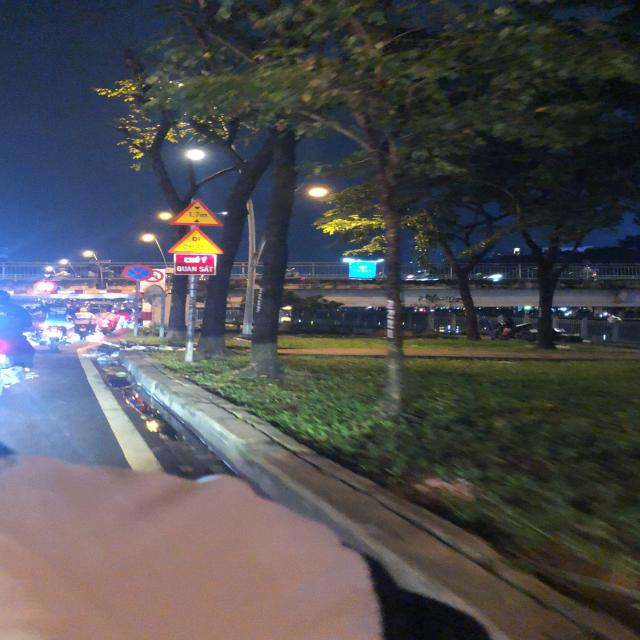Bien bao cam dung xe va do xe: (121, 262, 154, 284)
Bien bao chieu cao tinh khong thuc te: (162, 196, 231, 230)
Bien bao di cham: (154, 226, 231, 255)
